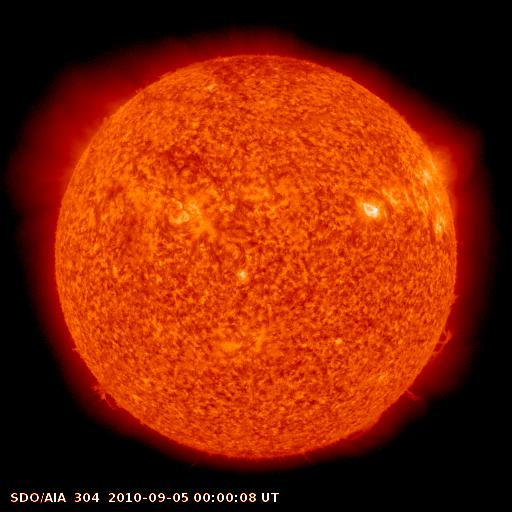prominence: (81, 371, 131, 417), (426, 316, 460, 361), (399, 373, 433, 412)
